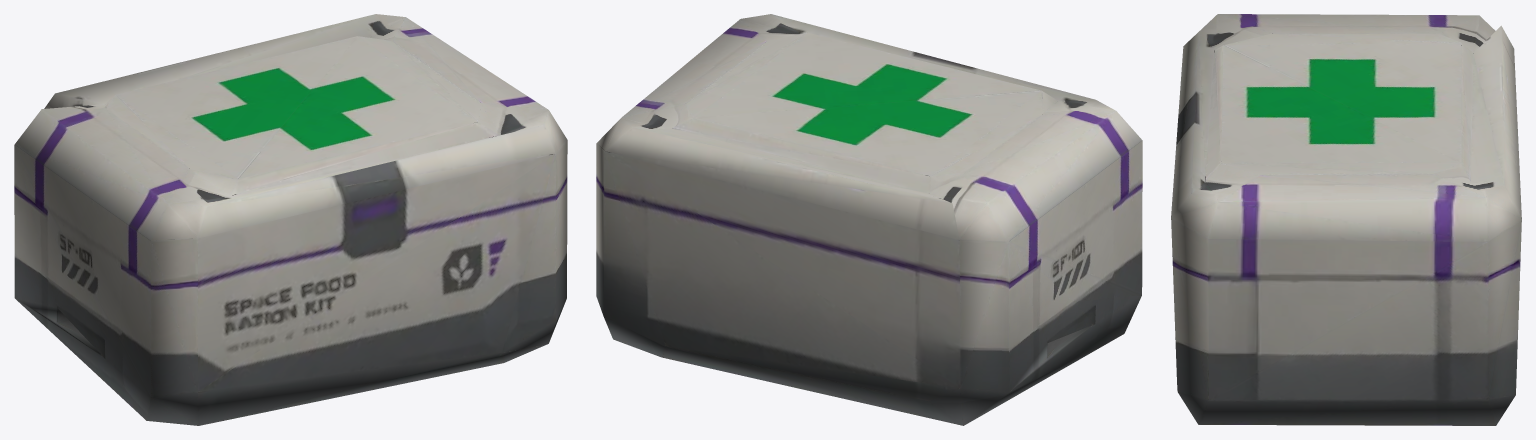
The model's file is kit-food.glb.
The picture shows the model from 3 angles, left to right: view 1: azimuth 30°, elevation 25°; view 2: azimuth 150°, elevation 25°; view 3: azimuth 270°, elevation 25°; orthographic projection. The views are drawn at different scales.
Visible parts, largest first — view 1: geometry_0; view 2: geometry_0; view 3: geometry_0.
Part boxes in pixels (bbox=[...]): geometry_0: bbox=[14, 14, 567, 425]; geometry_0: bbox=[596, 14, 1142, 425]; geometry_0: bbox=[1171, 14, 1521, 425].
Size of the model in its own units: 0.9512 by 0.5098 by 0.6826.
Materials: 1 (1 with a texture image).
